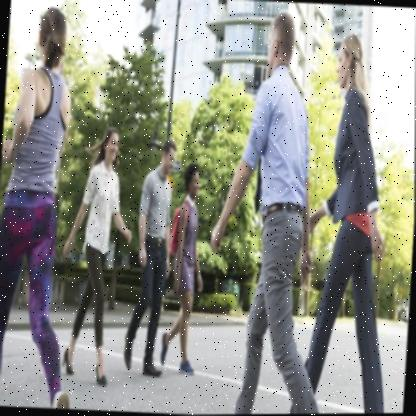person: (200, 4, 326, 414), (299, 27, 403, 414), (0, 3, 97, 409), (62, 124, 141, 382), (119, 132, 181, 392), (157, 160, 211, 377)
